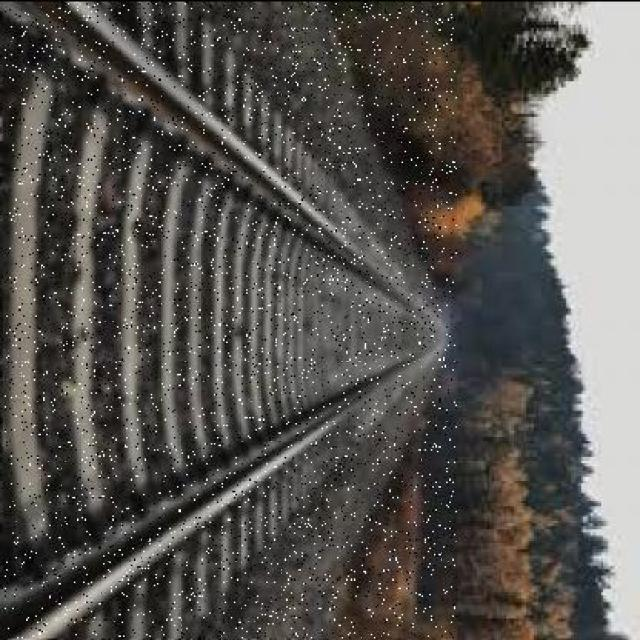rail: (6, 3, 457, 637)
